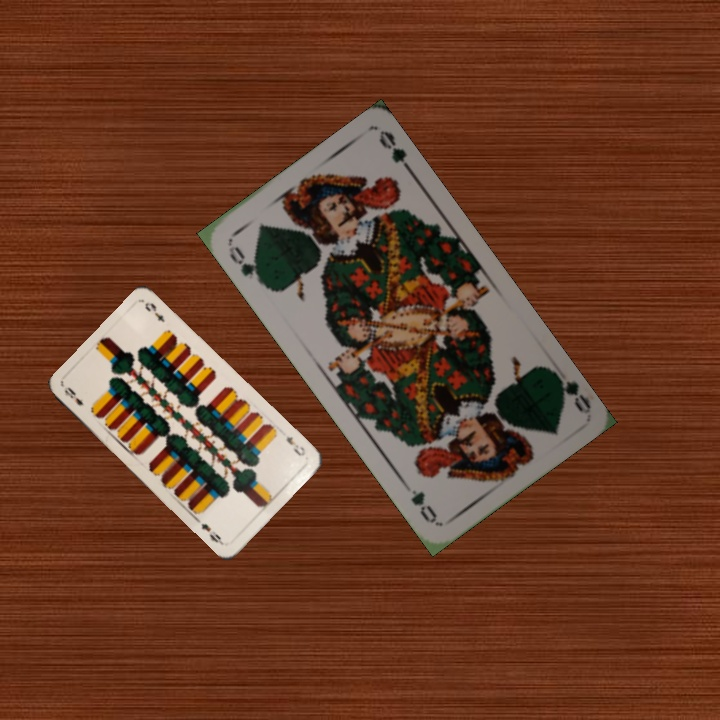E9: (282, 432, 308, 458), (60, 383, 86, 408)
GO: (546, 365, 593, 415), (224, 239, 268, 288)
